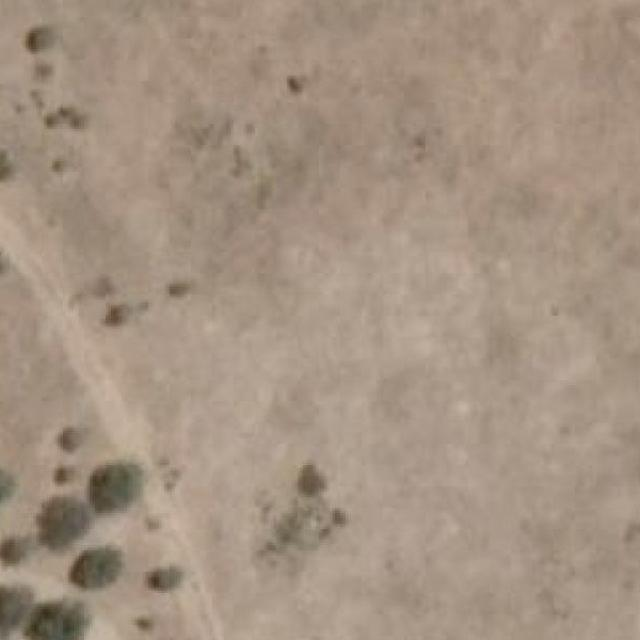Tree: (31, 495, 87, 548), (20, 600, 84, 640), (84, 465, 132, 513), (74, 545, 120, 586), (0, 586, 26, 628), (294, 463, 324, 498), (22, 26, 52, 58), (143, 566, 175, 588), (56, 428, 82, 452), (0, 537, 23, 564), (0, 465, 12, 505), (0, 249, 12, 288), (50, 465, 72, 484)
